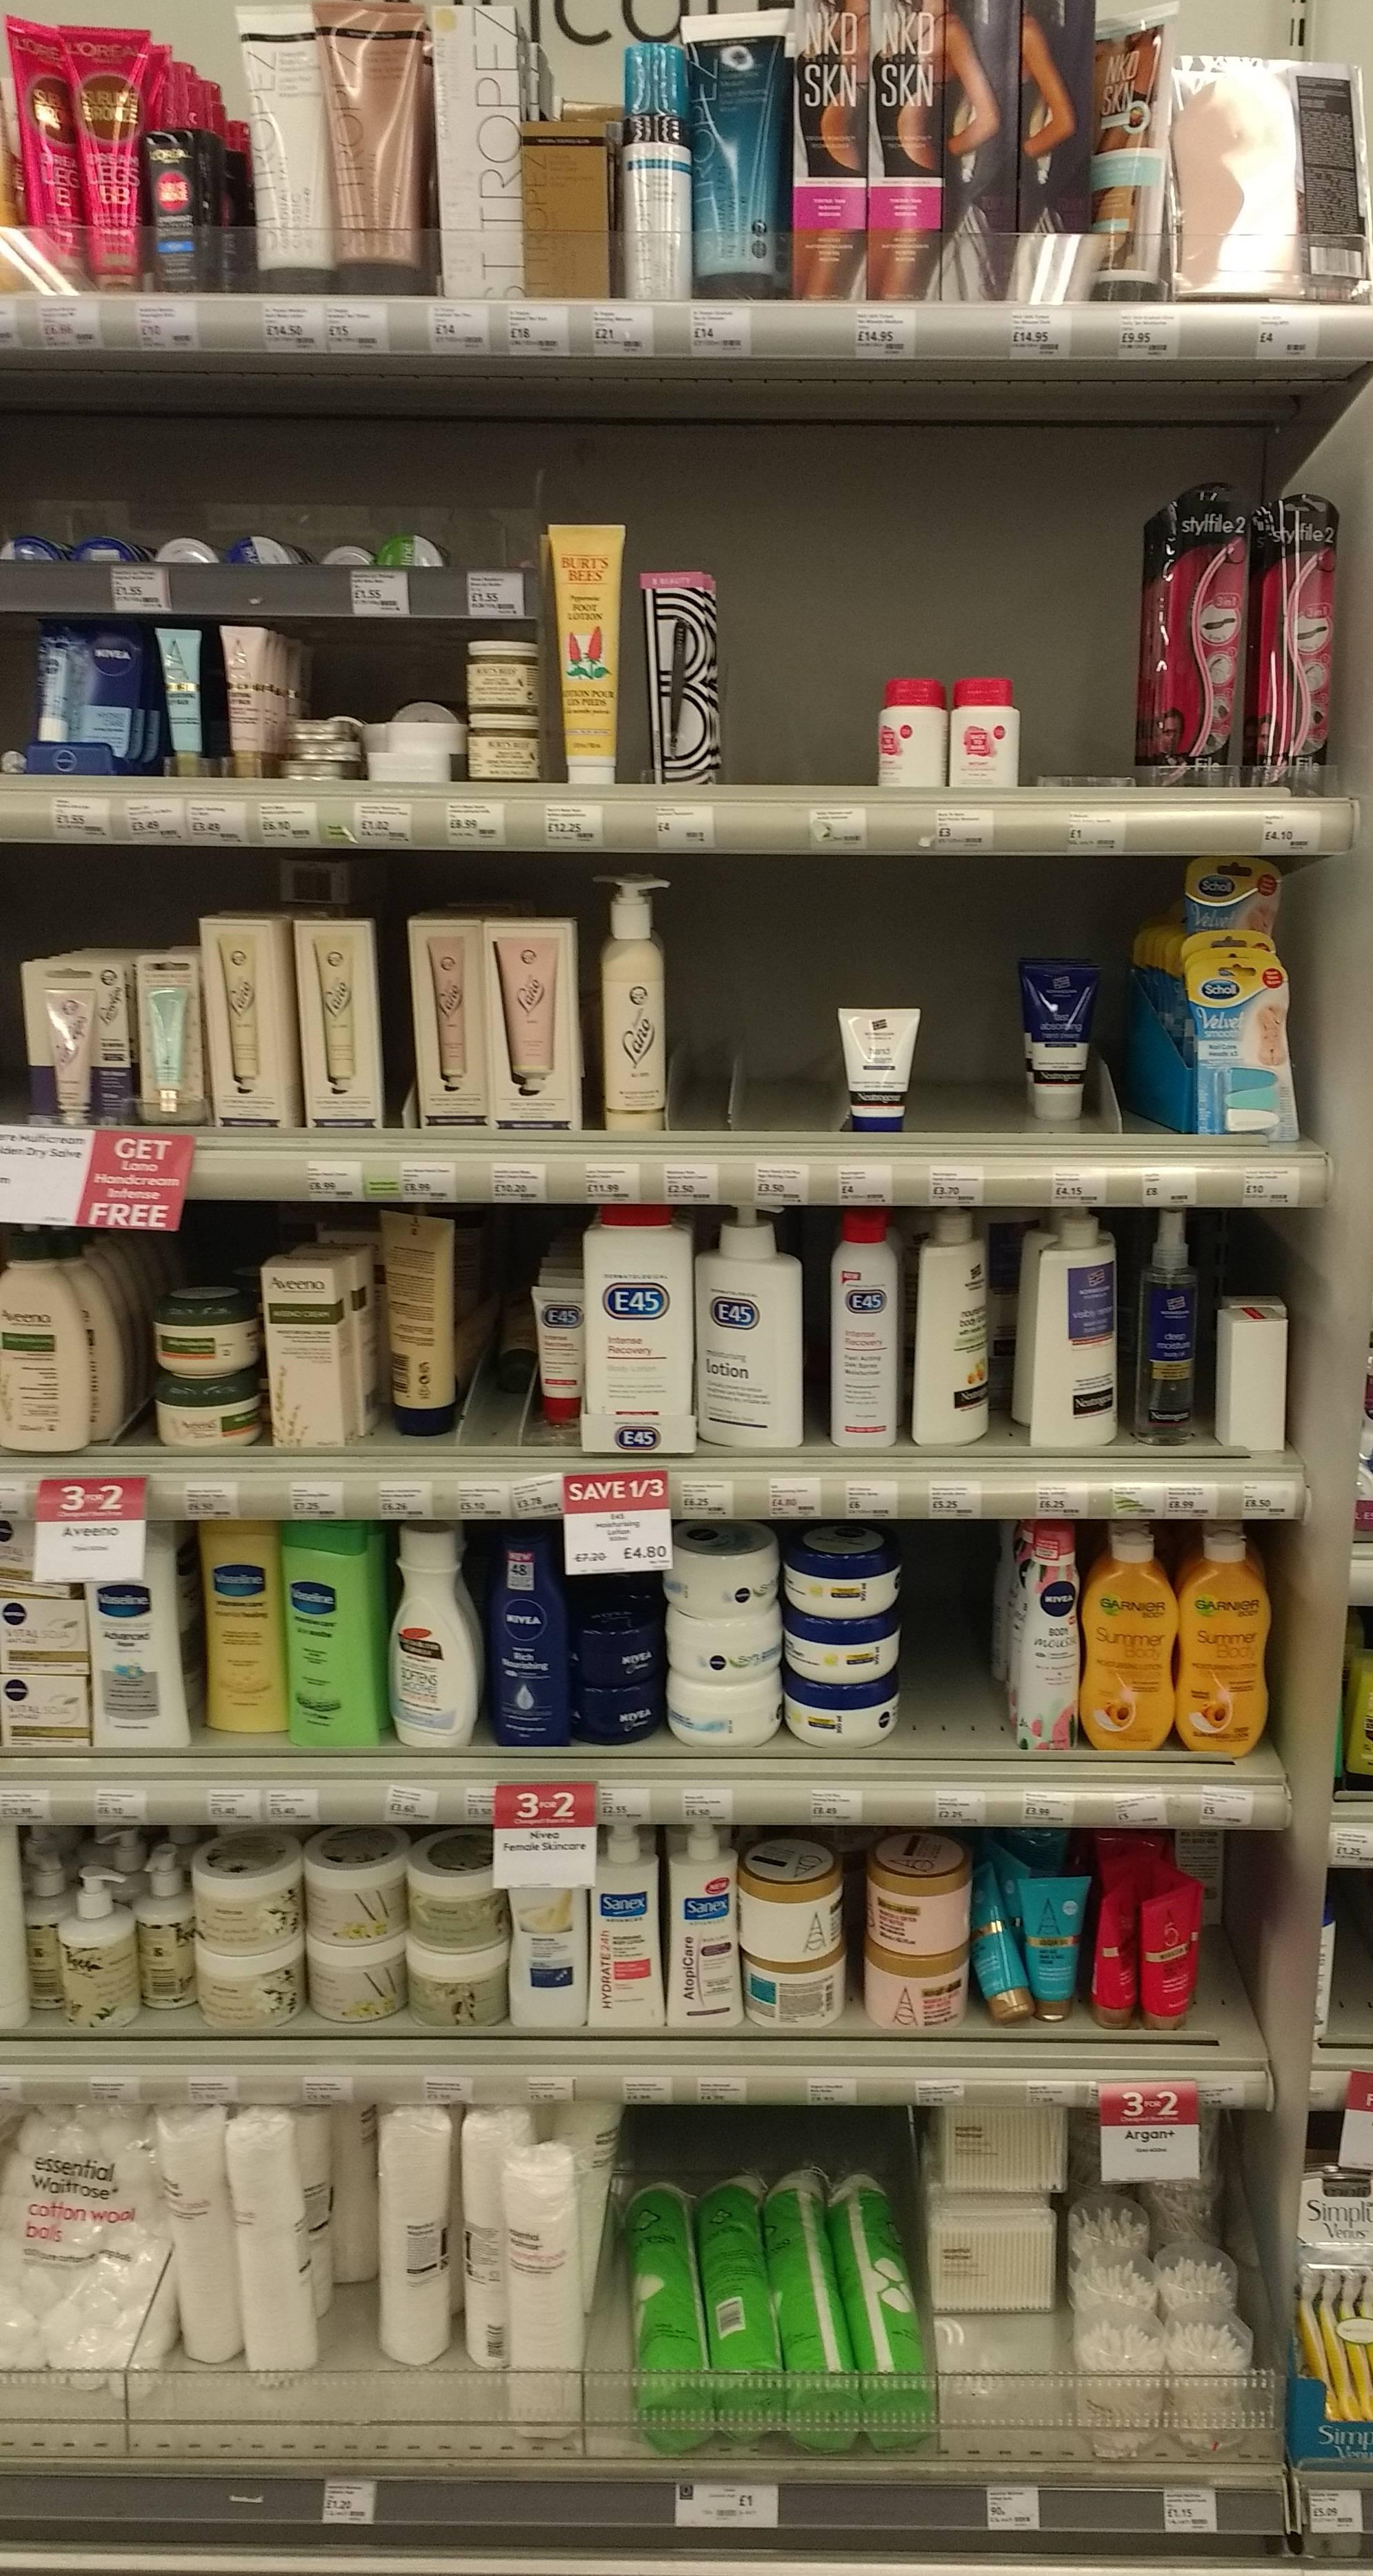empty: (732, 584, 865, 782), (1032, 535, 1129, 782), (922, 946, 1017, 1130), (748, 934, 821, 1118), (920, 1540, 985, 1739), (673, 944, 727, 1124), (1106, 961, 1146, 1135)
misalignment: (1092, 1859, 1204, 2038), (971, 1869, 1039, 2027)
